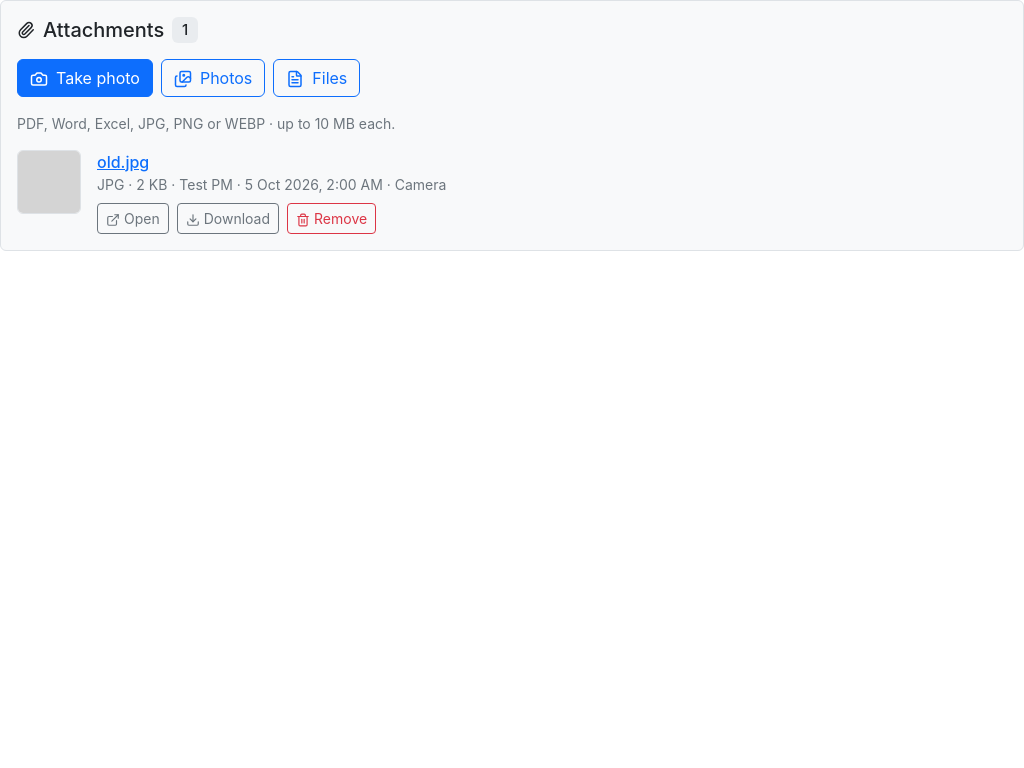
Test: AttachmentPanel (design §10.2) › removes an attachment after confirmation
Click the button "Remove": (332, 218) top-left (287, 202), bottom-right (376, 234)
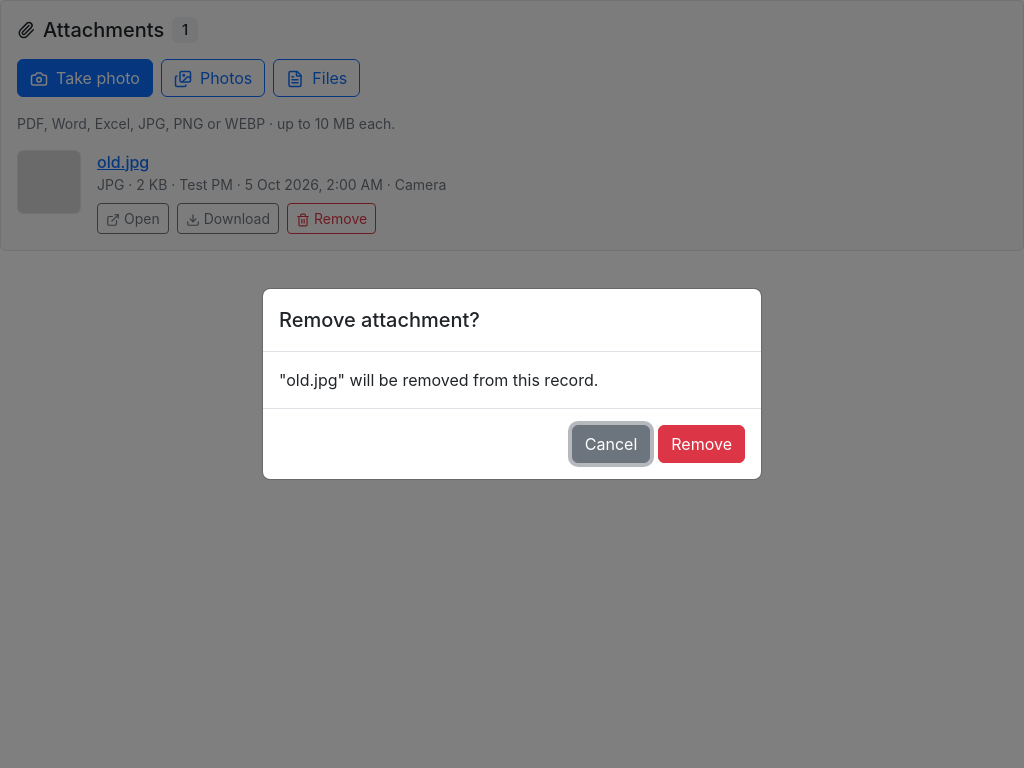
Click the button "Remove": (702, 444) top-left (658, 425), bottom-right (745, 463)
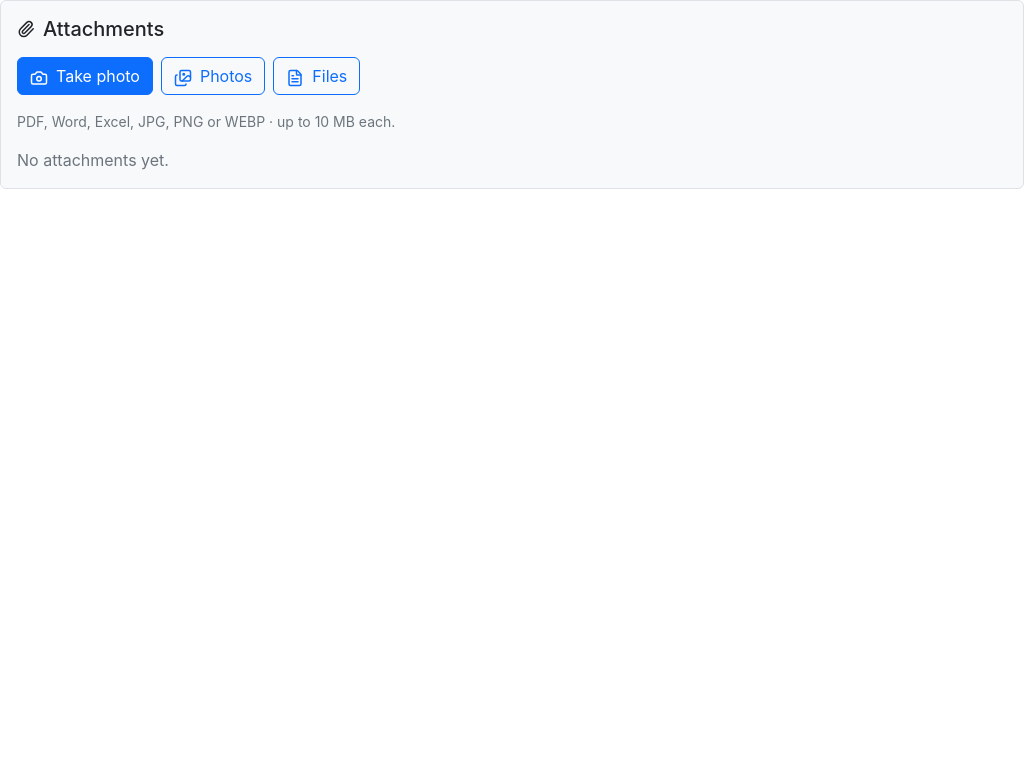
Expected: the text "No attachments yet." is shown, top-left (17, 150), bottom-right (169, 170)
